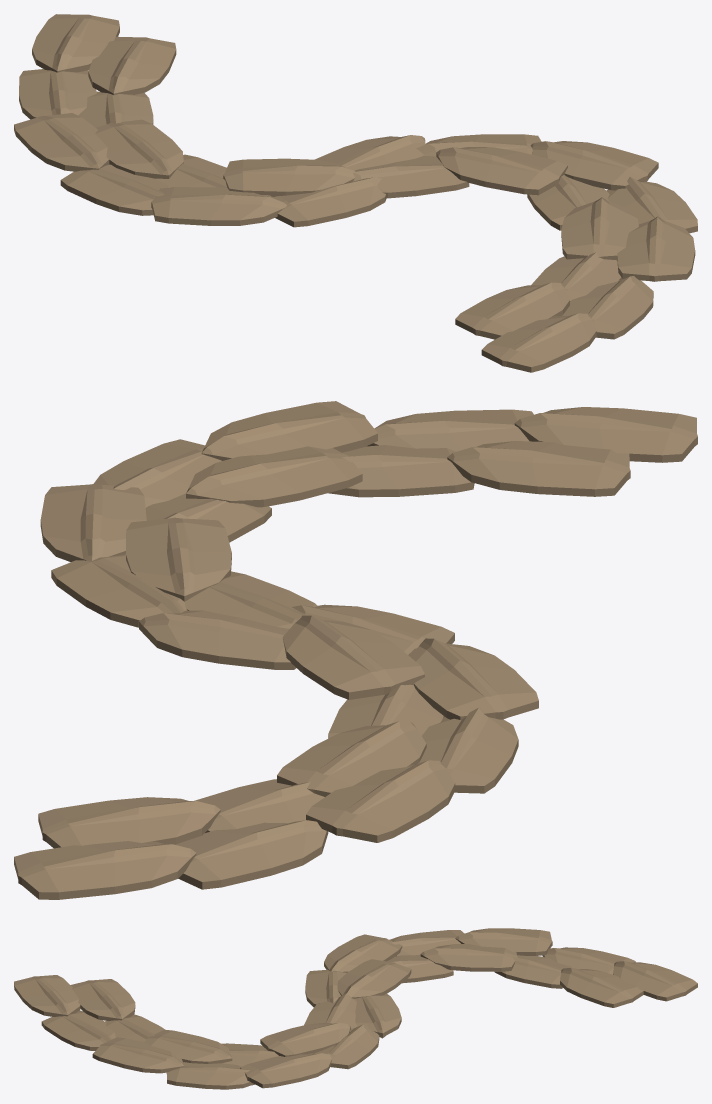
Rendered from Scales Unharvested.fbx.
3 renders of one model, top to bottom at view 1: azimuth 30°, elevation 25°; view 2: azimuth 150°, elevation 25°; view 3: azimuth 270°, elevation 25°, orthographic. The views are drawn at different scales.
Parts seen in each view (by area): view 1: scale14; view 2: scale14; view 3: scale14.
Boxes of the visible parts, x1,y1,x2,y2 form: scale14: (14,14,697,372); scale14: (14,401,697,899); scale14: (14,928,697,1089).
Bounding box in the file's own units: 0.9525 × 0.0726 × 1.73.
